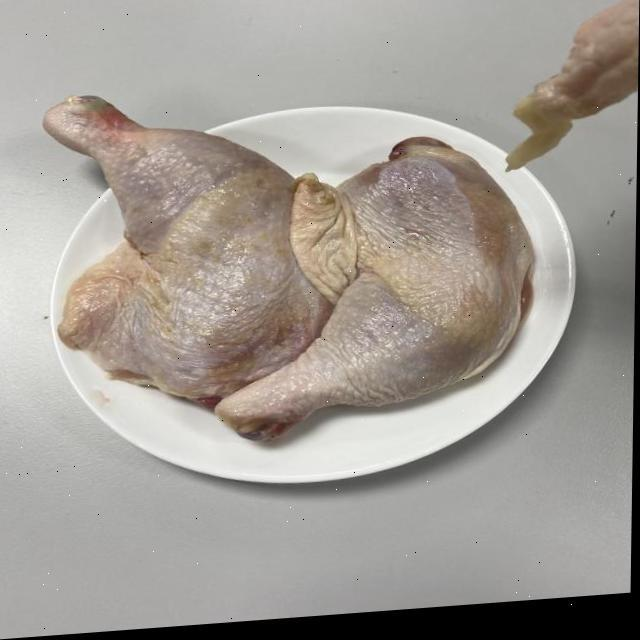quater: (15, 64, 342, 397), (248, 140, 526, 460)
